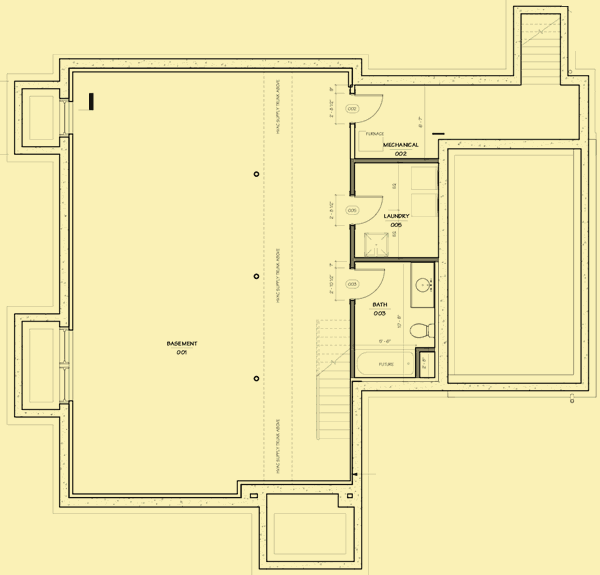door: (350, 267, 388, 300), (348, 91, 385, 123), (350, 193, 384, 224)
large_sink: (405, 319, 434, 344)
small_sink: (406, 261, 438, 311)
stairs: (315, 319, 355, 448), (513, 6, 569, 86)
tub: (355, 349, 416, 378)
window: (56, 326, 75, 405), (57, 94, 74, 135)
